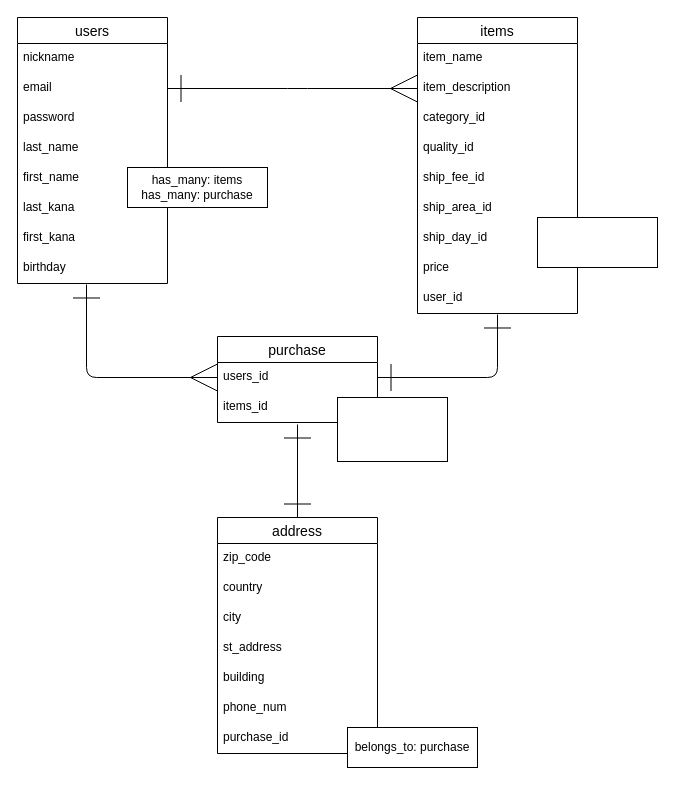
Image size: 675x785. Some labels were removed from this diagram. Each missing label, with the centre of its shape:
belongs_to: user belongs_to: item has_one: address: the point at 392,429
belongs_to: user has_one: purchase: the point at 597,242
